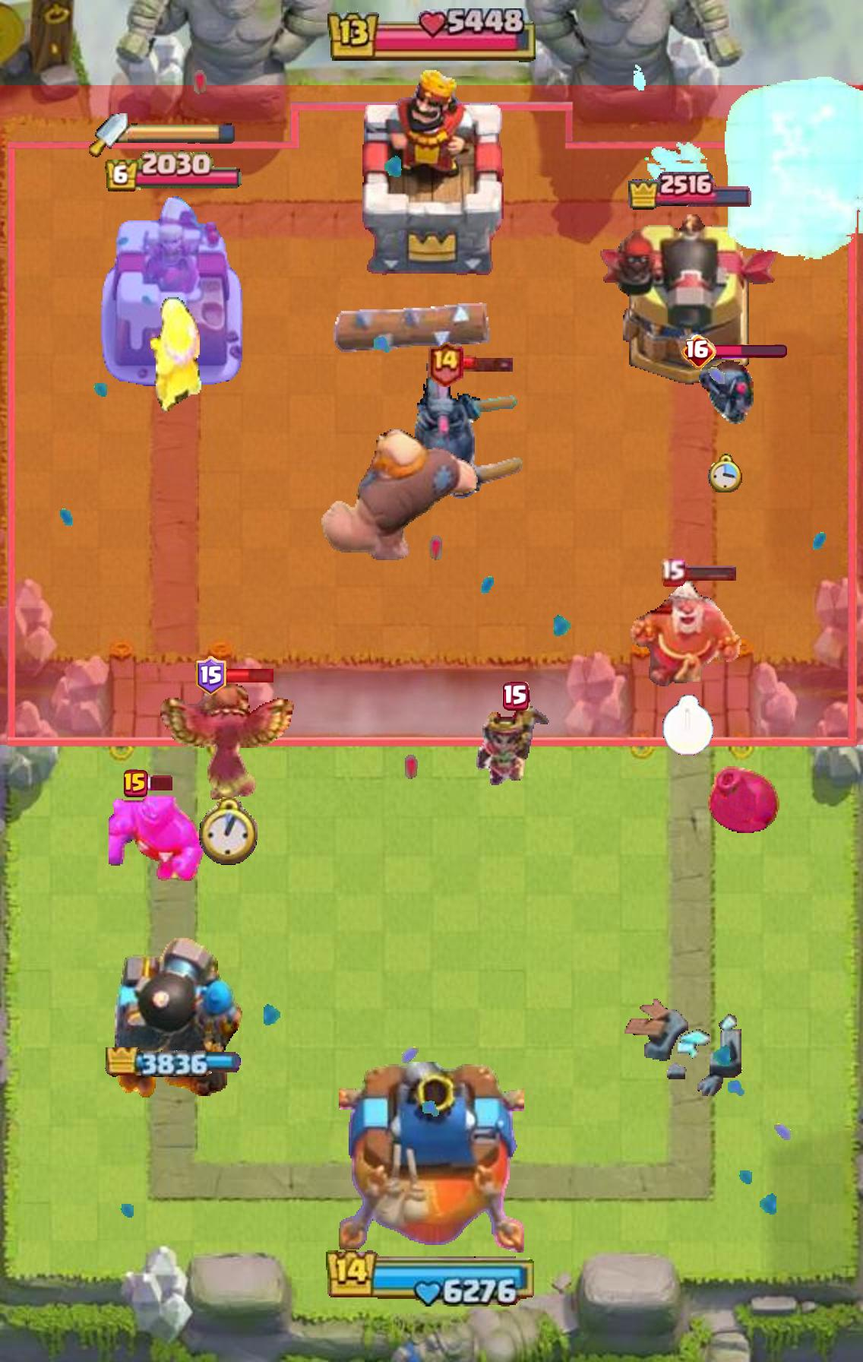musketeer: (150, 296, 202, 412)
